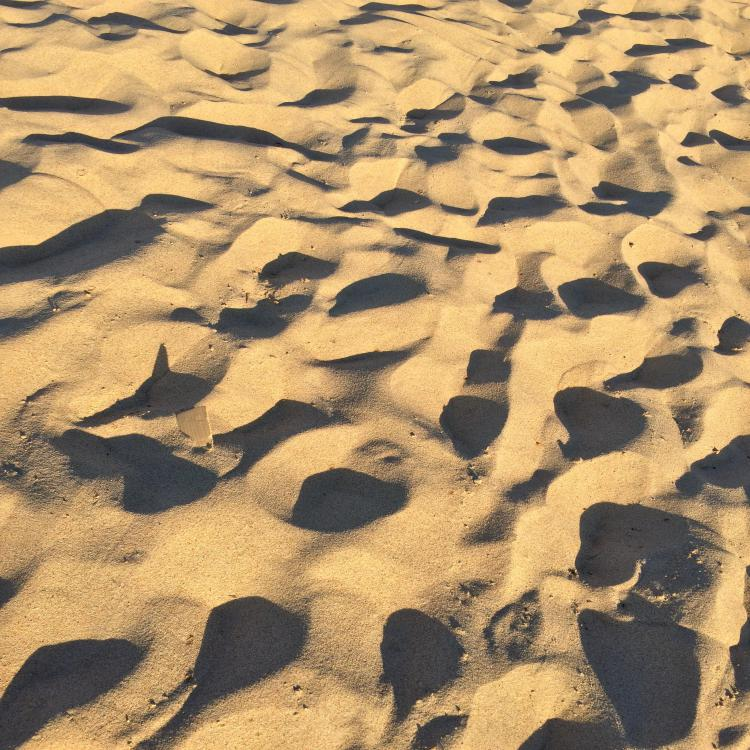Corrugated carton: (175, 406, 214, 450)
